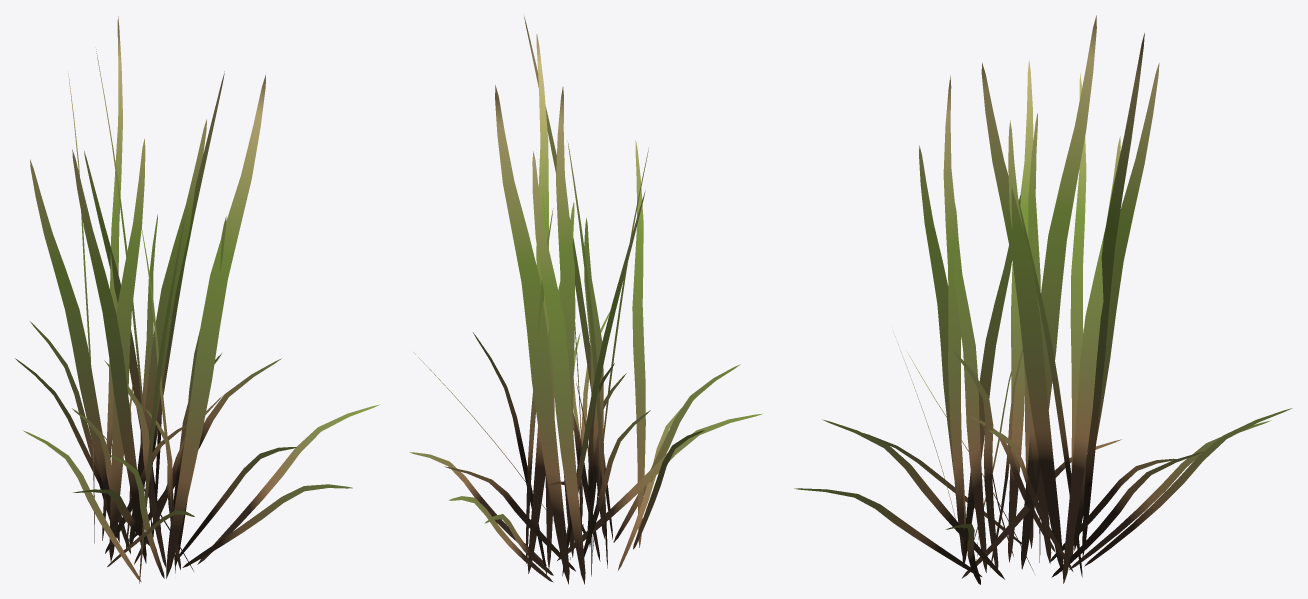
File: tatarak-2.obj
The picture shows the model from 3 angles, left to right: view 1: azimuth 30°, elevation 25°; view 2: azimuth 150°, elevation 25°; view 3: azimuth 270°, elevation 25°; orthographic projection. The views are drawn at different scales.
Visible parts, largest first — view 1: tatarak2; view 2: tatarak2; view 3: tatarak2.
Boxes of the visible parts, <box> form: tatarak2: <box>15,16,379,583</box>; tatarak2: <box>409,16,762,584</box>; tatarak2: <box>794,15,1292,584</box>.
Bounding box in the file's own units: 0.7067 × 1.03 × 0.851.
Materials: 1 (1 with a texture image).
